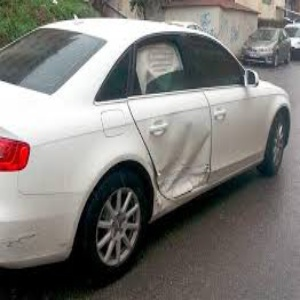door: (151, 105, 258, 195)
